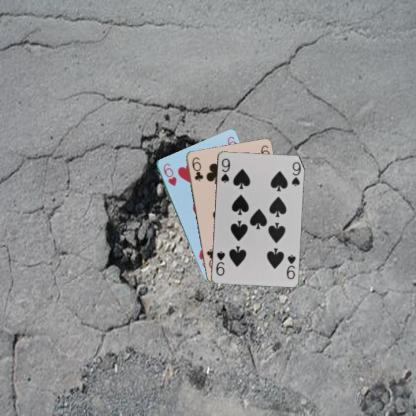6c: (189, 154, 204, 182)
6h: (160, 161, 178, 187)
9s: (219, 155, 231, 184), (284, 252, 296, 280)
